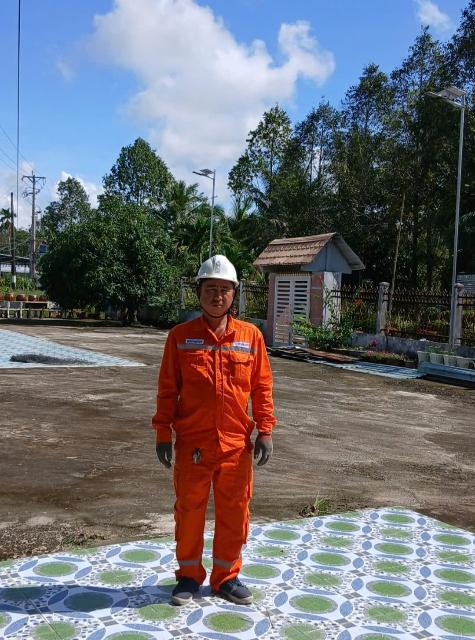gloves: (247, 436, 283, 470), (151, 430, 177, 475)
helmet: (196, 249, 246, 289)
shoes: (213, 568, 261, 608), (166, 571, 195, 610)
